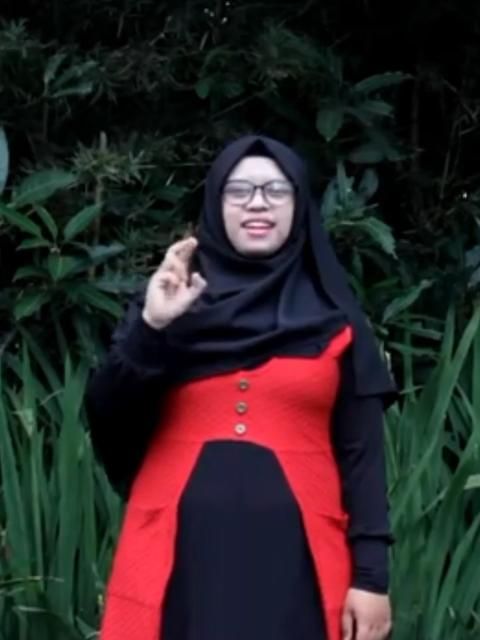R: (139, 238, 209, 324)
